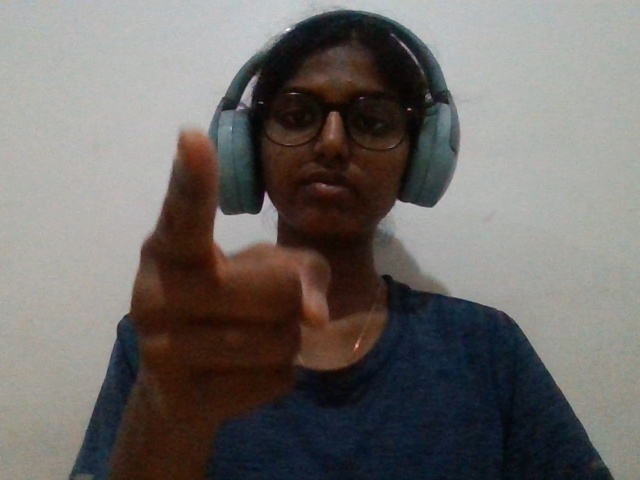You: (58, 110, 359, 473)
